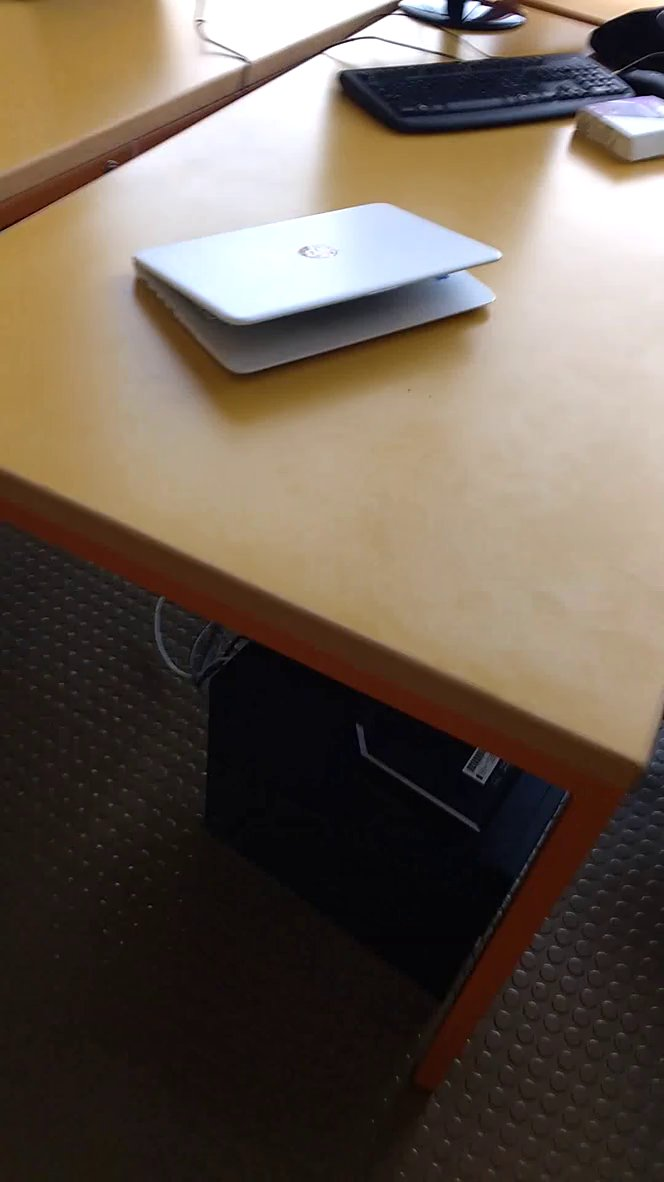laptop: (129, 183, 523, 416)
